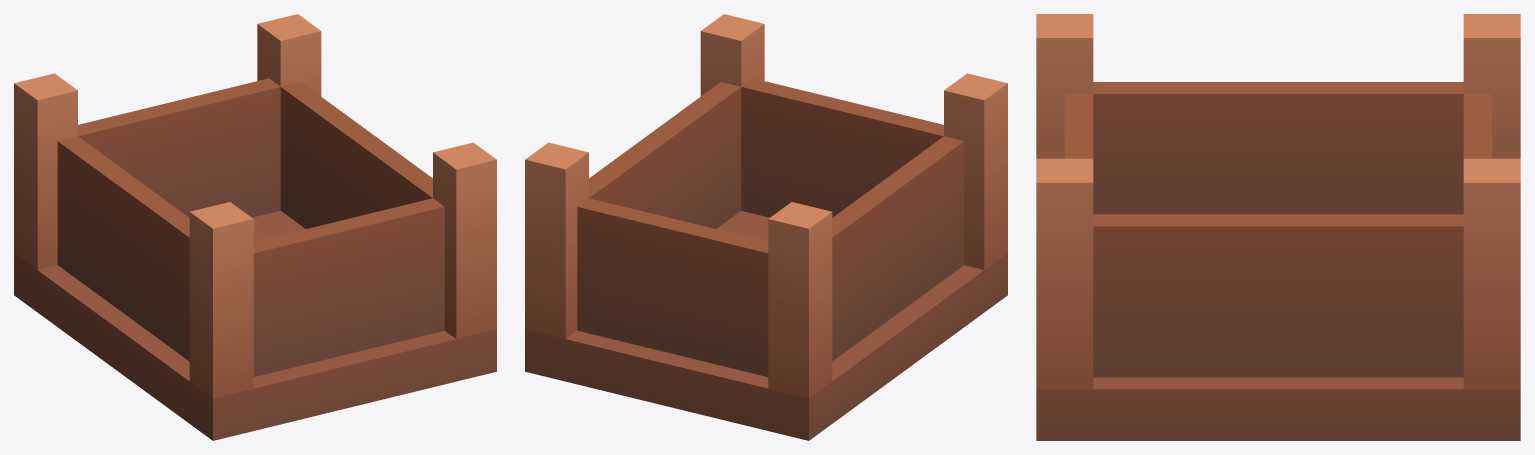
Rendered from kenney-pirate-crate.glb.
The picture shows the model from 3 angles, left to right: view 1: azimuth 30°, elevation 25°; view 2: azimuth 150°, elevation 25°; view 3: azimuth 270°, elevation 25°; orthographic projection. The views are drawn at different scales.
Visible parts, largest first — view 1: crate; view 2: crate; view 3: crate.
Boxes of the visible parts, box(x1,y1,x2,y2) form: crate: box(14, 14, 496, 440); crate: box(525, 14, 1007, 440); crate: box(1036, 14, 1520, 440).
Size of the model in its own units: 1.08 by 0.77 by 1.31.
1 material, 1 textured.
